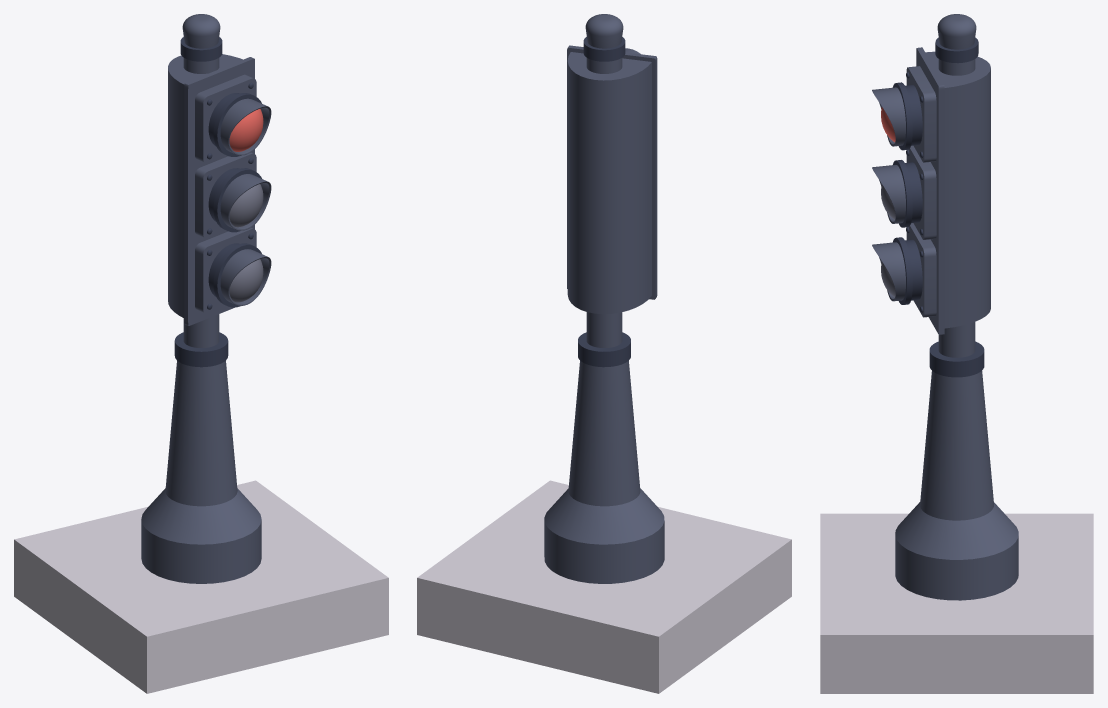
The model's file is concrete_traffic_light.fbx.
3 renders of one model, left to right at view 1: azimuth 30°, elevation 25°; view 2: azimuth 150°, elevation 25°; view 3: azimuth 270°, elevation 25°, orthographic. The views are drawn at different scales.
Visible parts, largest first — view 1: Cube.041, traffic light base, board, up light, middle light, down light; view 2: Cube.041, board, traffic light base; view 3: Cube.041, traffic light base, board, up light, middle light, down light.
Part boxes in pixels (left/top/right/bottom): Cube.041: left=14, top=480, right=388, bottom=693; traffic light base: left=141, top=14, right=261, bottom=583; board: left=168, top=54, right=254, bottom=325; up light: left=195, top=74, right=271, bottom=163; middle light: left=195, top=152, right=271, bottom=238; down light: left=195, top=227, right=271, bottom=313; Cube.041: left=417, top=480, right=791, bottom=693; board: left=567, top=45, right=657, bottom=314; traffic light base: left=544, top=14, right=664, bottom=583; Cube.041: left=820, top=513, right=1093, bottom=693; traffic light base: left=895, top=14, right=1018, bottom=600; board: left=916, top=47, right=990, bottom=334; up light: left=872, top=66, right=936, bottom=162; middle light: left=872, top=145, right=936, bottom=239; down light: left=872, top=223, right=936, bottom=317.
Bounding box in the file's own units: 107 × 254 × 102.
